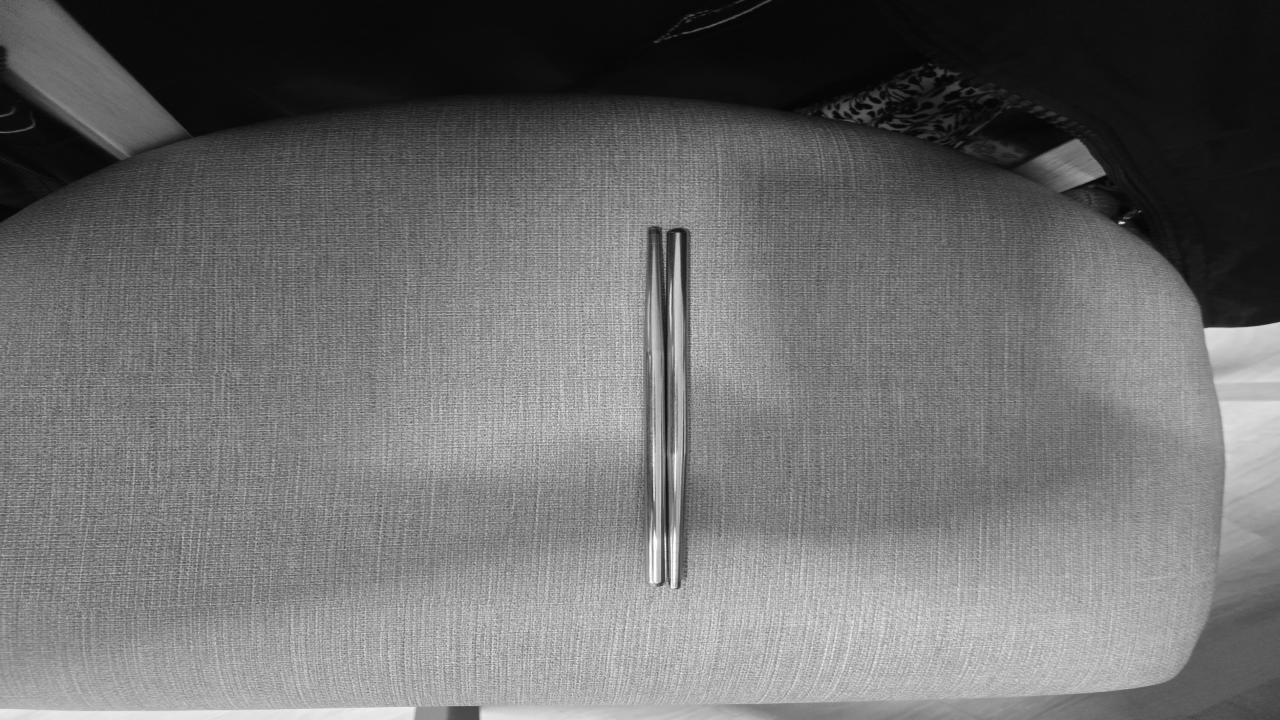chopstick: (635, 218, 698, 596)
